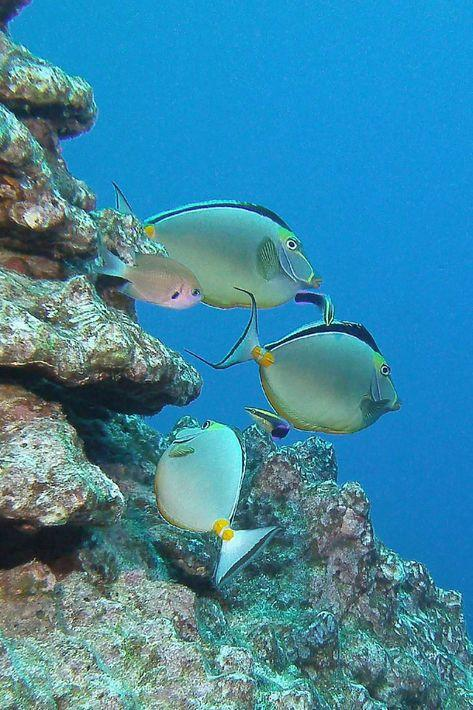fish: (187, 286, 400, 435), (113, 181, 324, 309), (153, 420, 284, 587), (94, 247, 206, 310), (245, 406, 290, 440)
